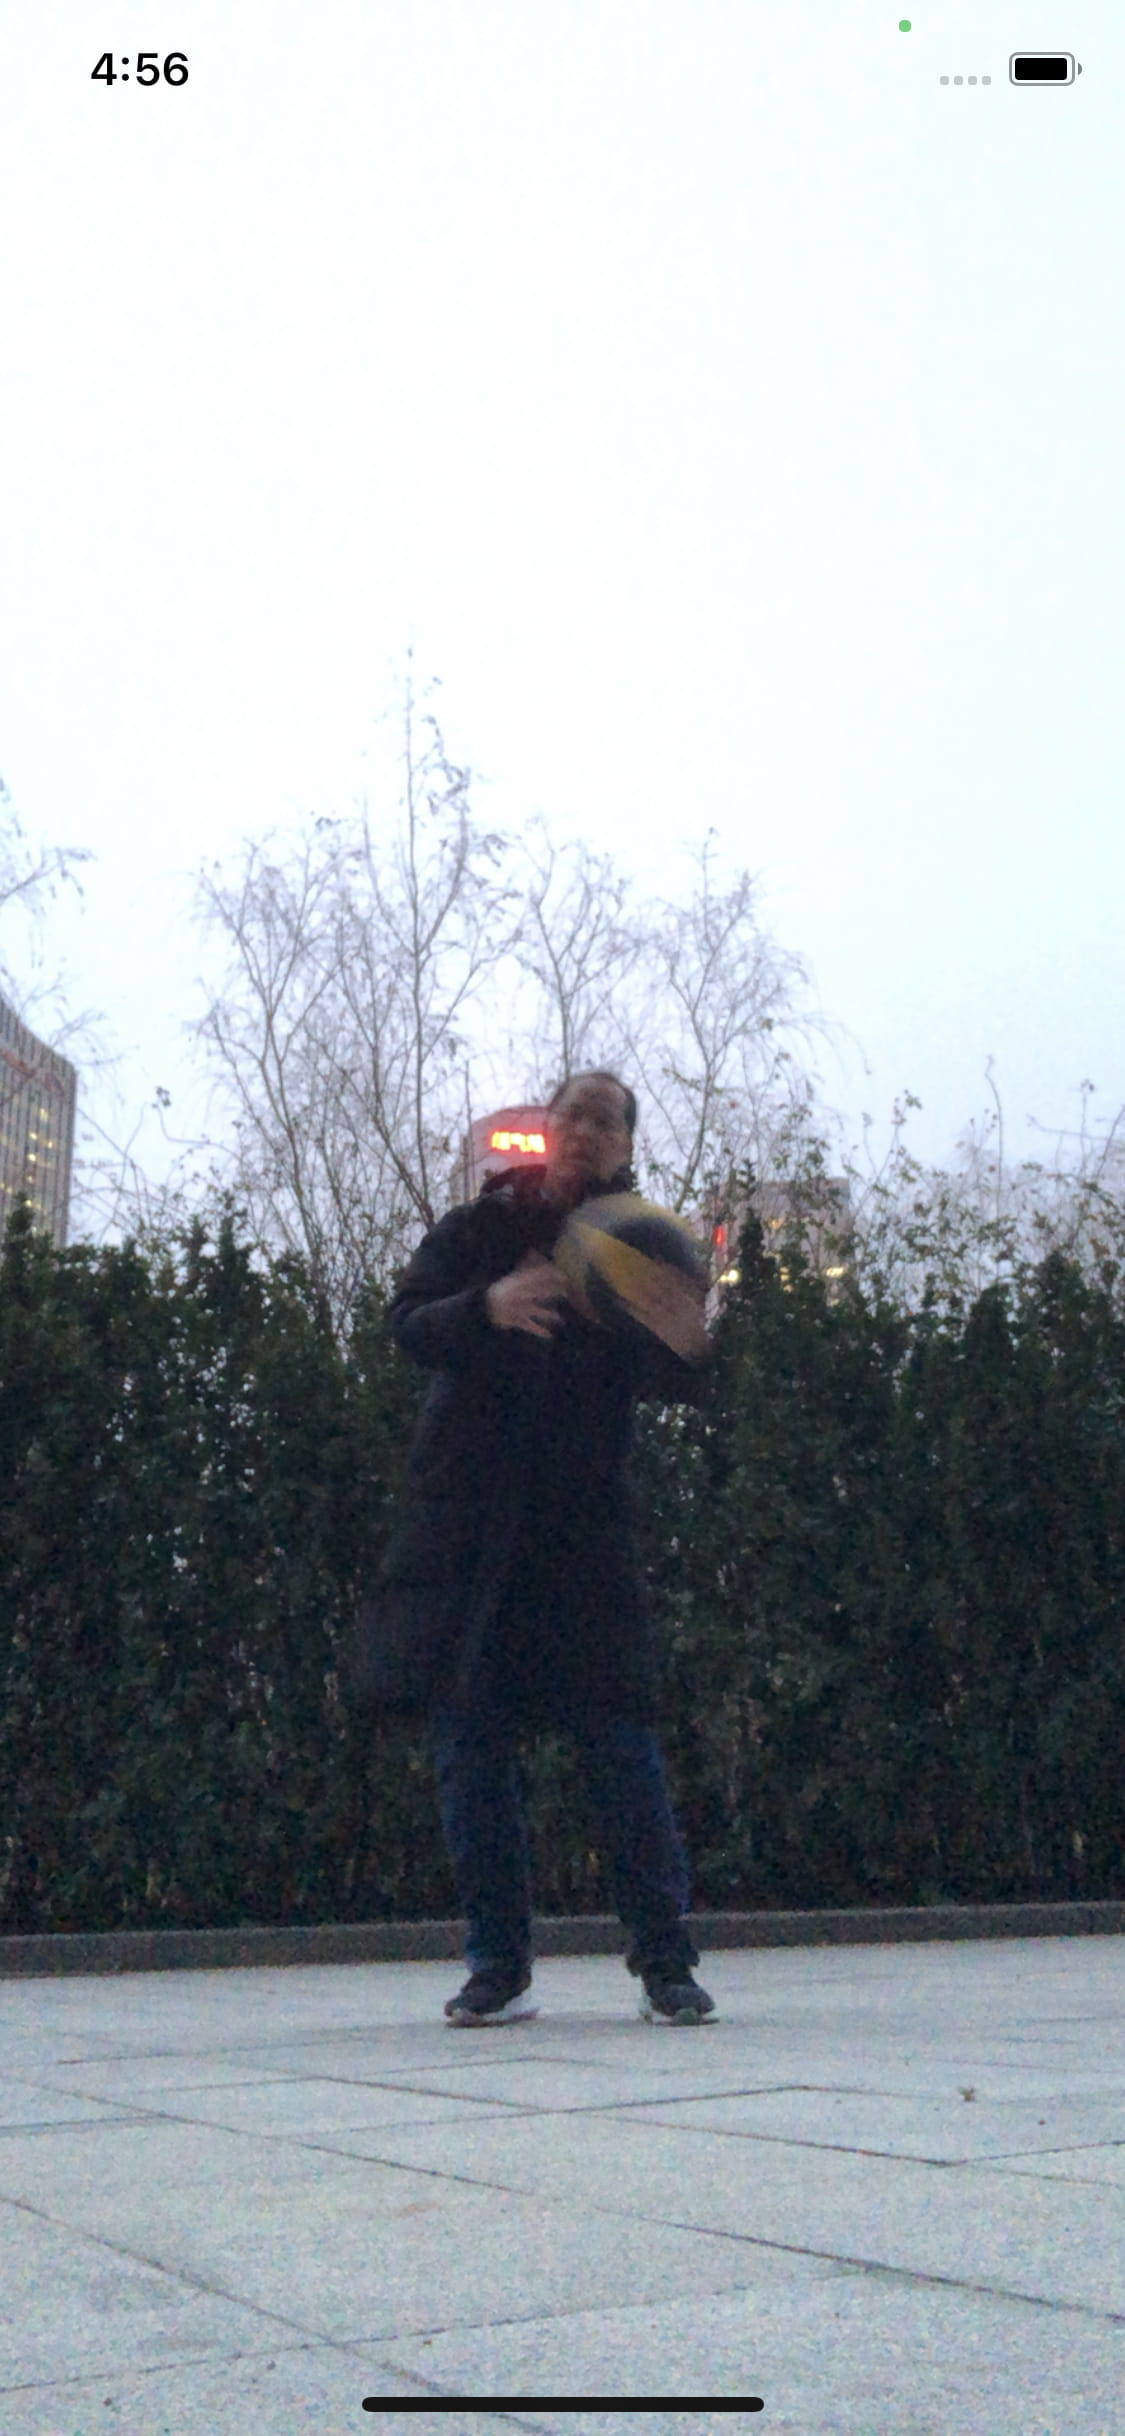ball: (559, 1202, 701, 1336)
